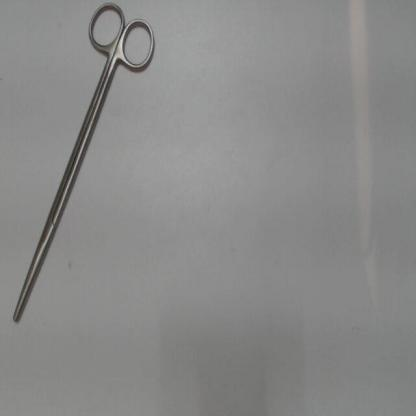9 Metzenbaum Scissors: (8, 1, 161, 328)
